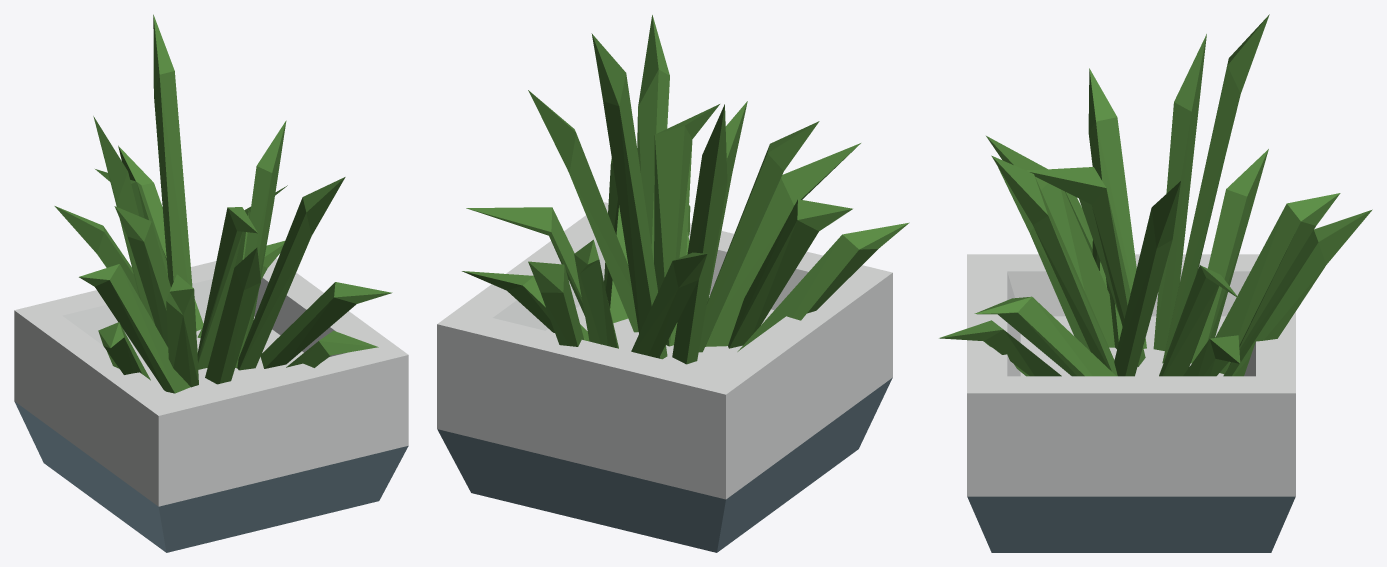
File: Safe_Plant_02.fbx
3 renders of one model, left to right at view 1: azimuth 30°, elevation 25°; view 2: azimuth 150°, elevation 25°; view 3: azimuth 270°, elevation 25°, orthographic. The views are drawn at different scales.
Parts seen in each view (by area): view 1: Safe_Plant_02; view 2: Safe_Plant_02; view 3: Safe_Plant_02.
Boxes of the visible parts, x1,y1,x2,y2 form: Safe_Plant_02: (14,14,408,552); Safe_Plant_02: (437,15,909,552); Safe_Plant_02: (939,14,1372,552).
Bounding box in the file's own units: 111 × 158 × 129.
